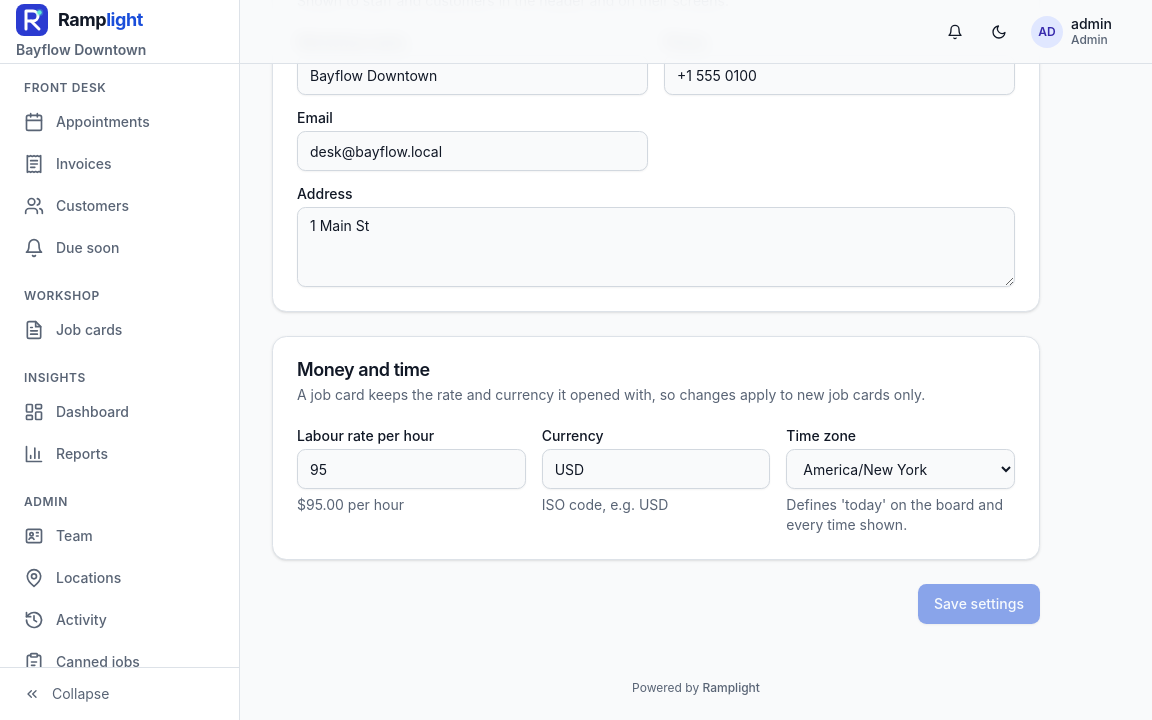
Test: workshop settings (SaaS phase 3) › checks the form before sending and shows server errors on the field
(page scrolled)
Step 1. Replace the text in the field labelled "Labour rate per hour" with "-5" → (411, 469), box x1=297 y1=449 x2=526 y2=489
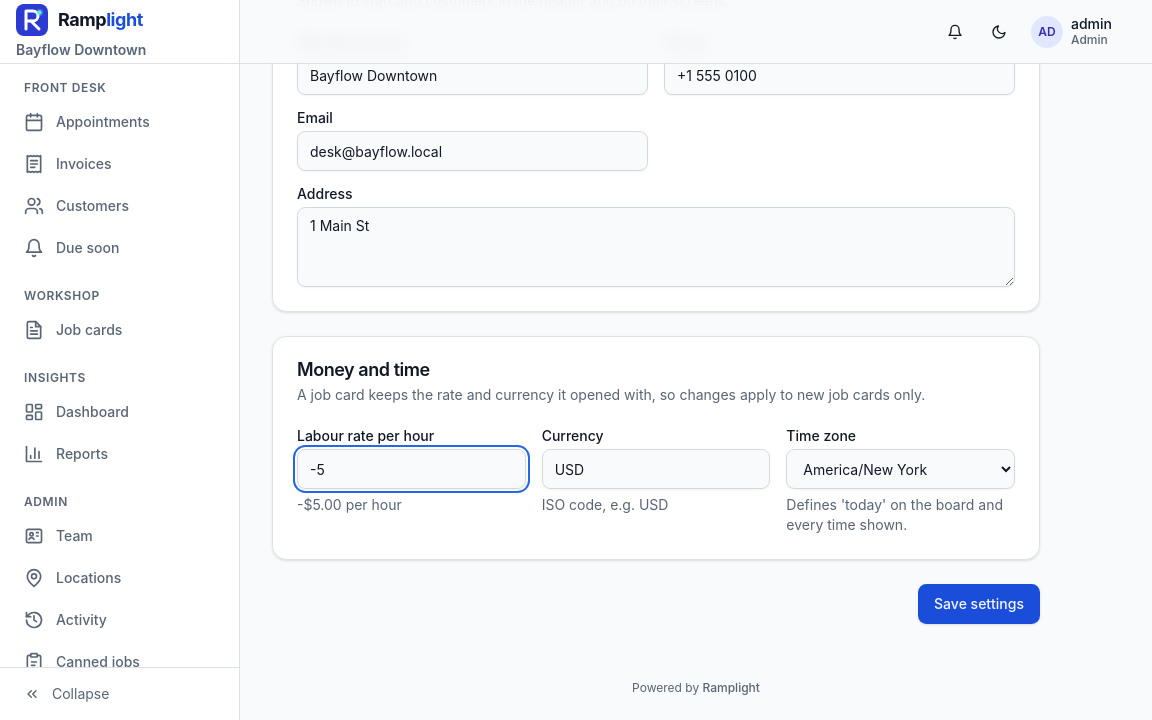
Step 2. Click the button "Save settings" → click(979, 604), box x1=918 y1=584 x2=1040 y2=624
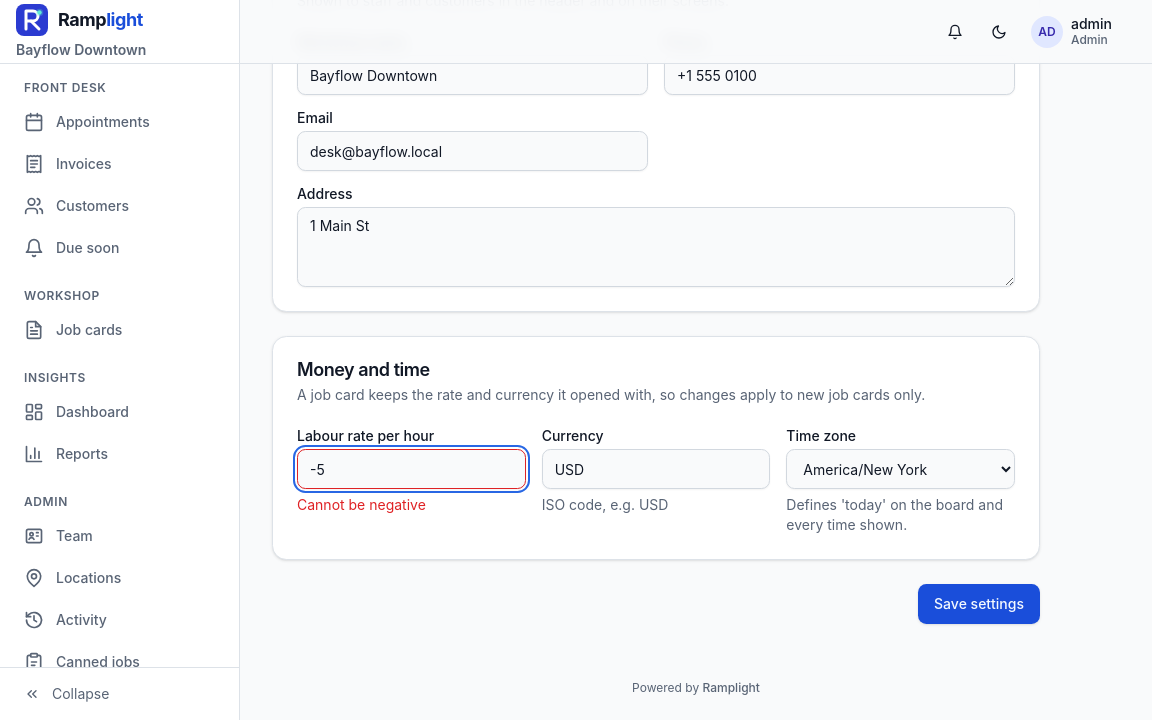
Check: the text "Cannot be negative" is shown, box x1=297 y1=496 x2=426 y2=513
Step 3. Replace the text in the field labelled "Labour rate per hour" with "95" → (411, 469), box x1=297 y1=449 x2=526 y2=489
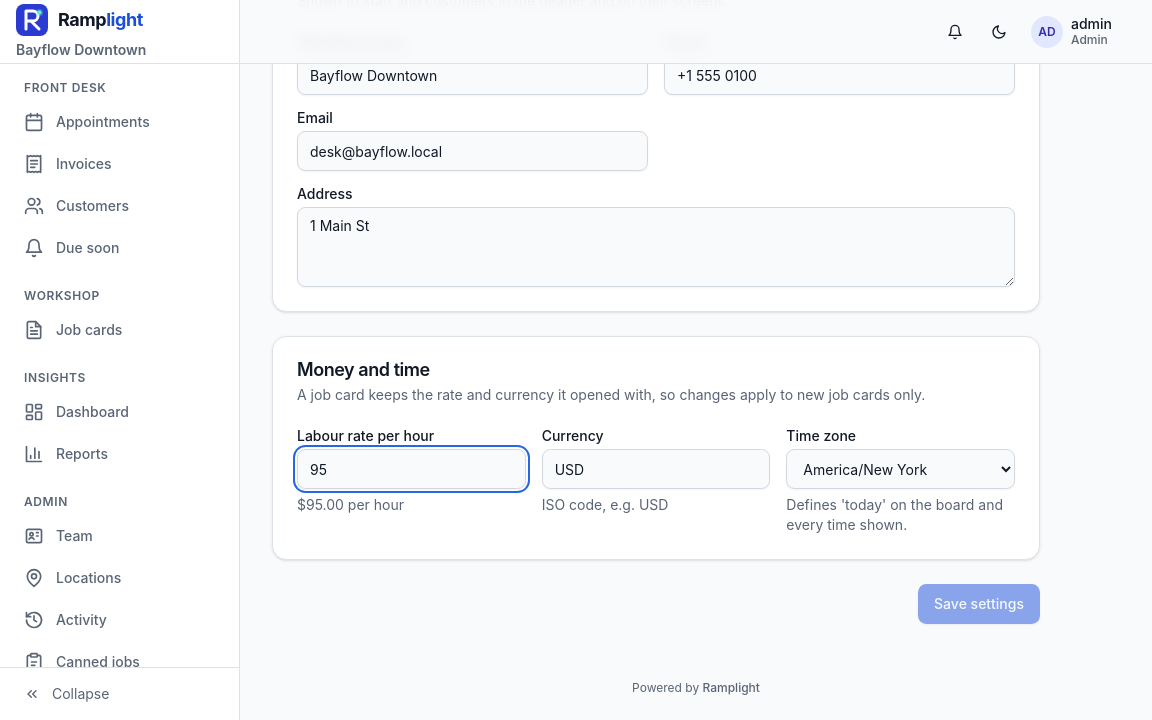
Step 4. Replace the text in the field labelled "Currency" with "ABC" → (656, 469), box x1=542 y1=449 x2=770 y2=489
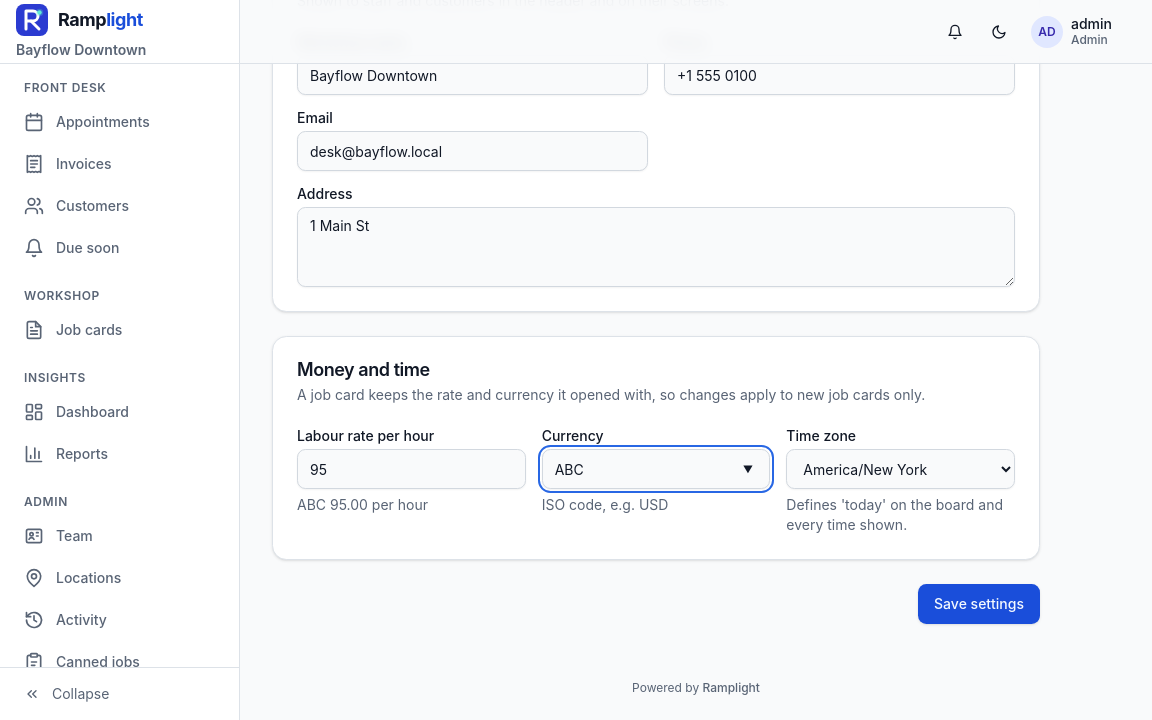
Step 5. Click the button "Save settings" → click(979, 604), box x1=918 y1=584 x2=1040 y2=624
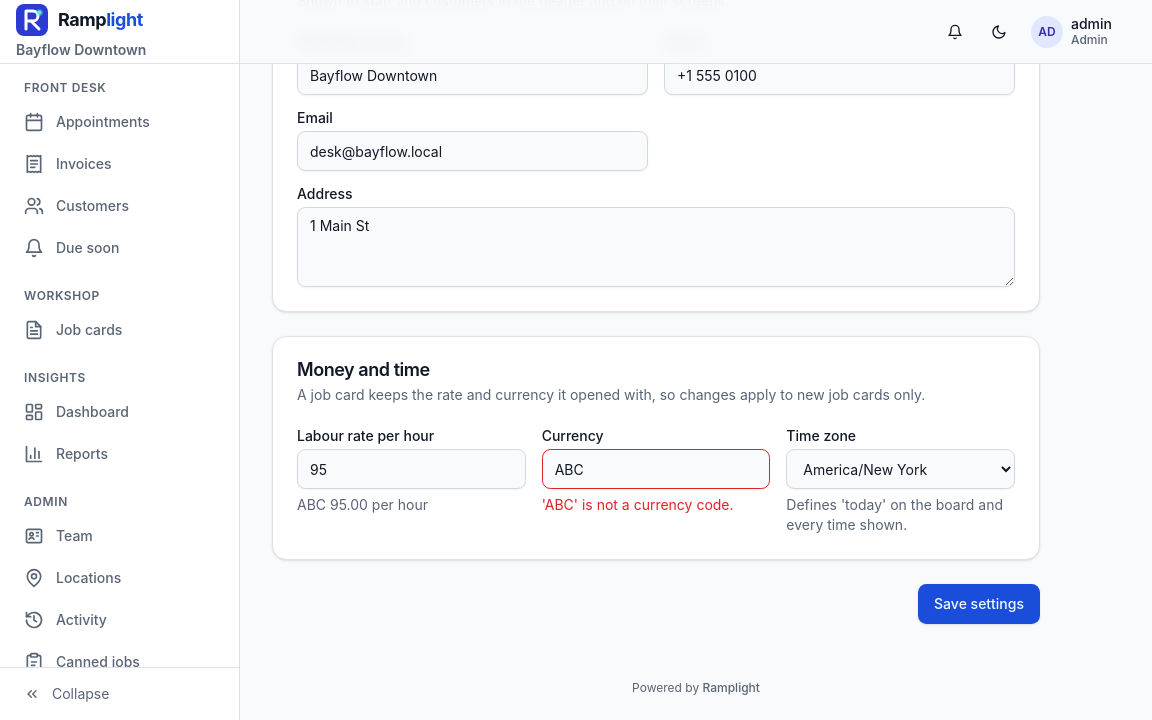
Check: the text "'ABC' is not a currency code." is shown, box x1=542 y1=496 x2=734 y2=513
